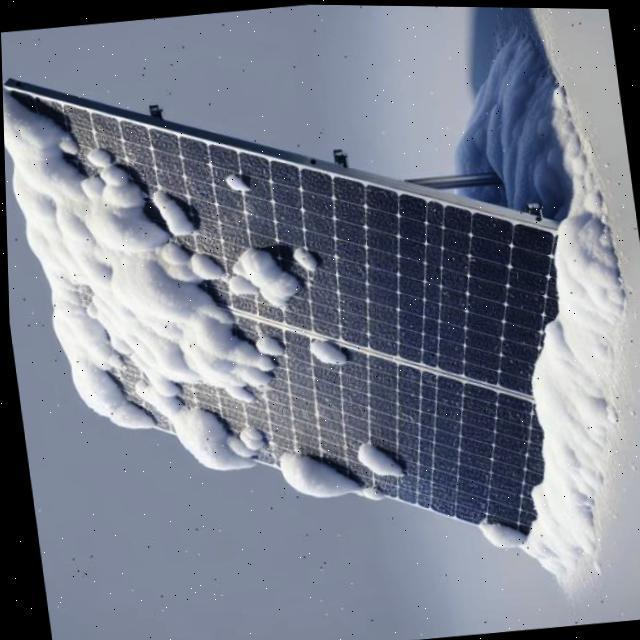Anomaly Solar Panel: (2, 81, 579, 542)
Snow: (2, 64, 334, 521), (473, 216, 623, 574), (265, 447, 386, 522), (214, 240, 301, 325), (143, 185, 193, 245), (346, 437, 402, 490), (300, 333, 345, 376), (286, 244, 320, 277), (218, 170, 246, 200)
